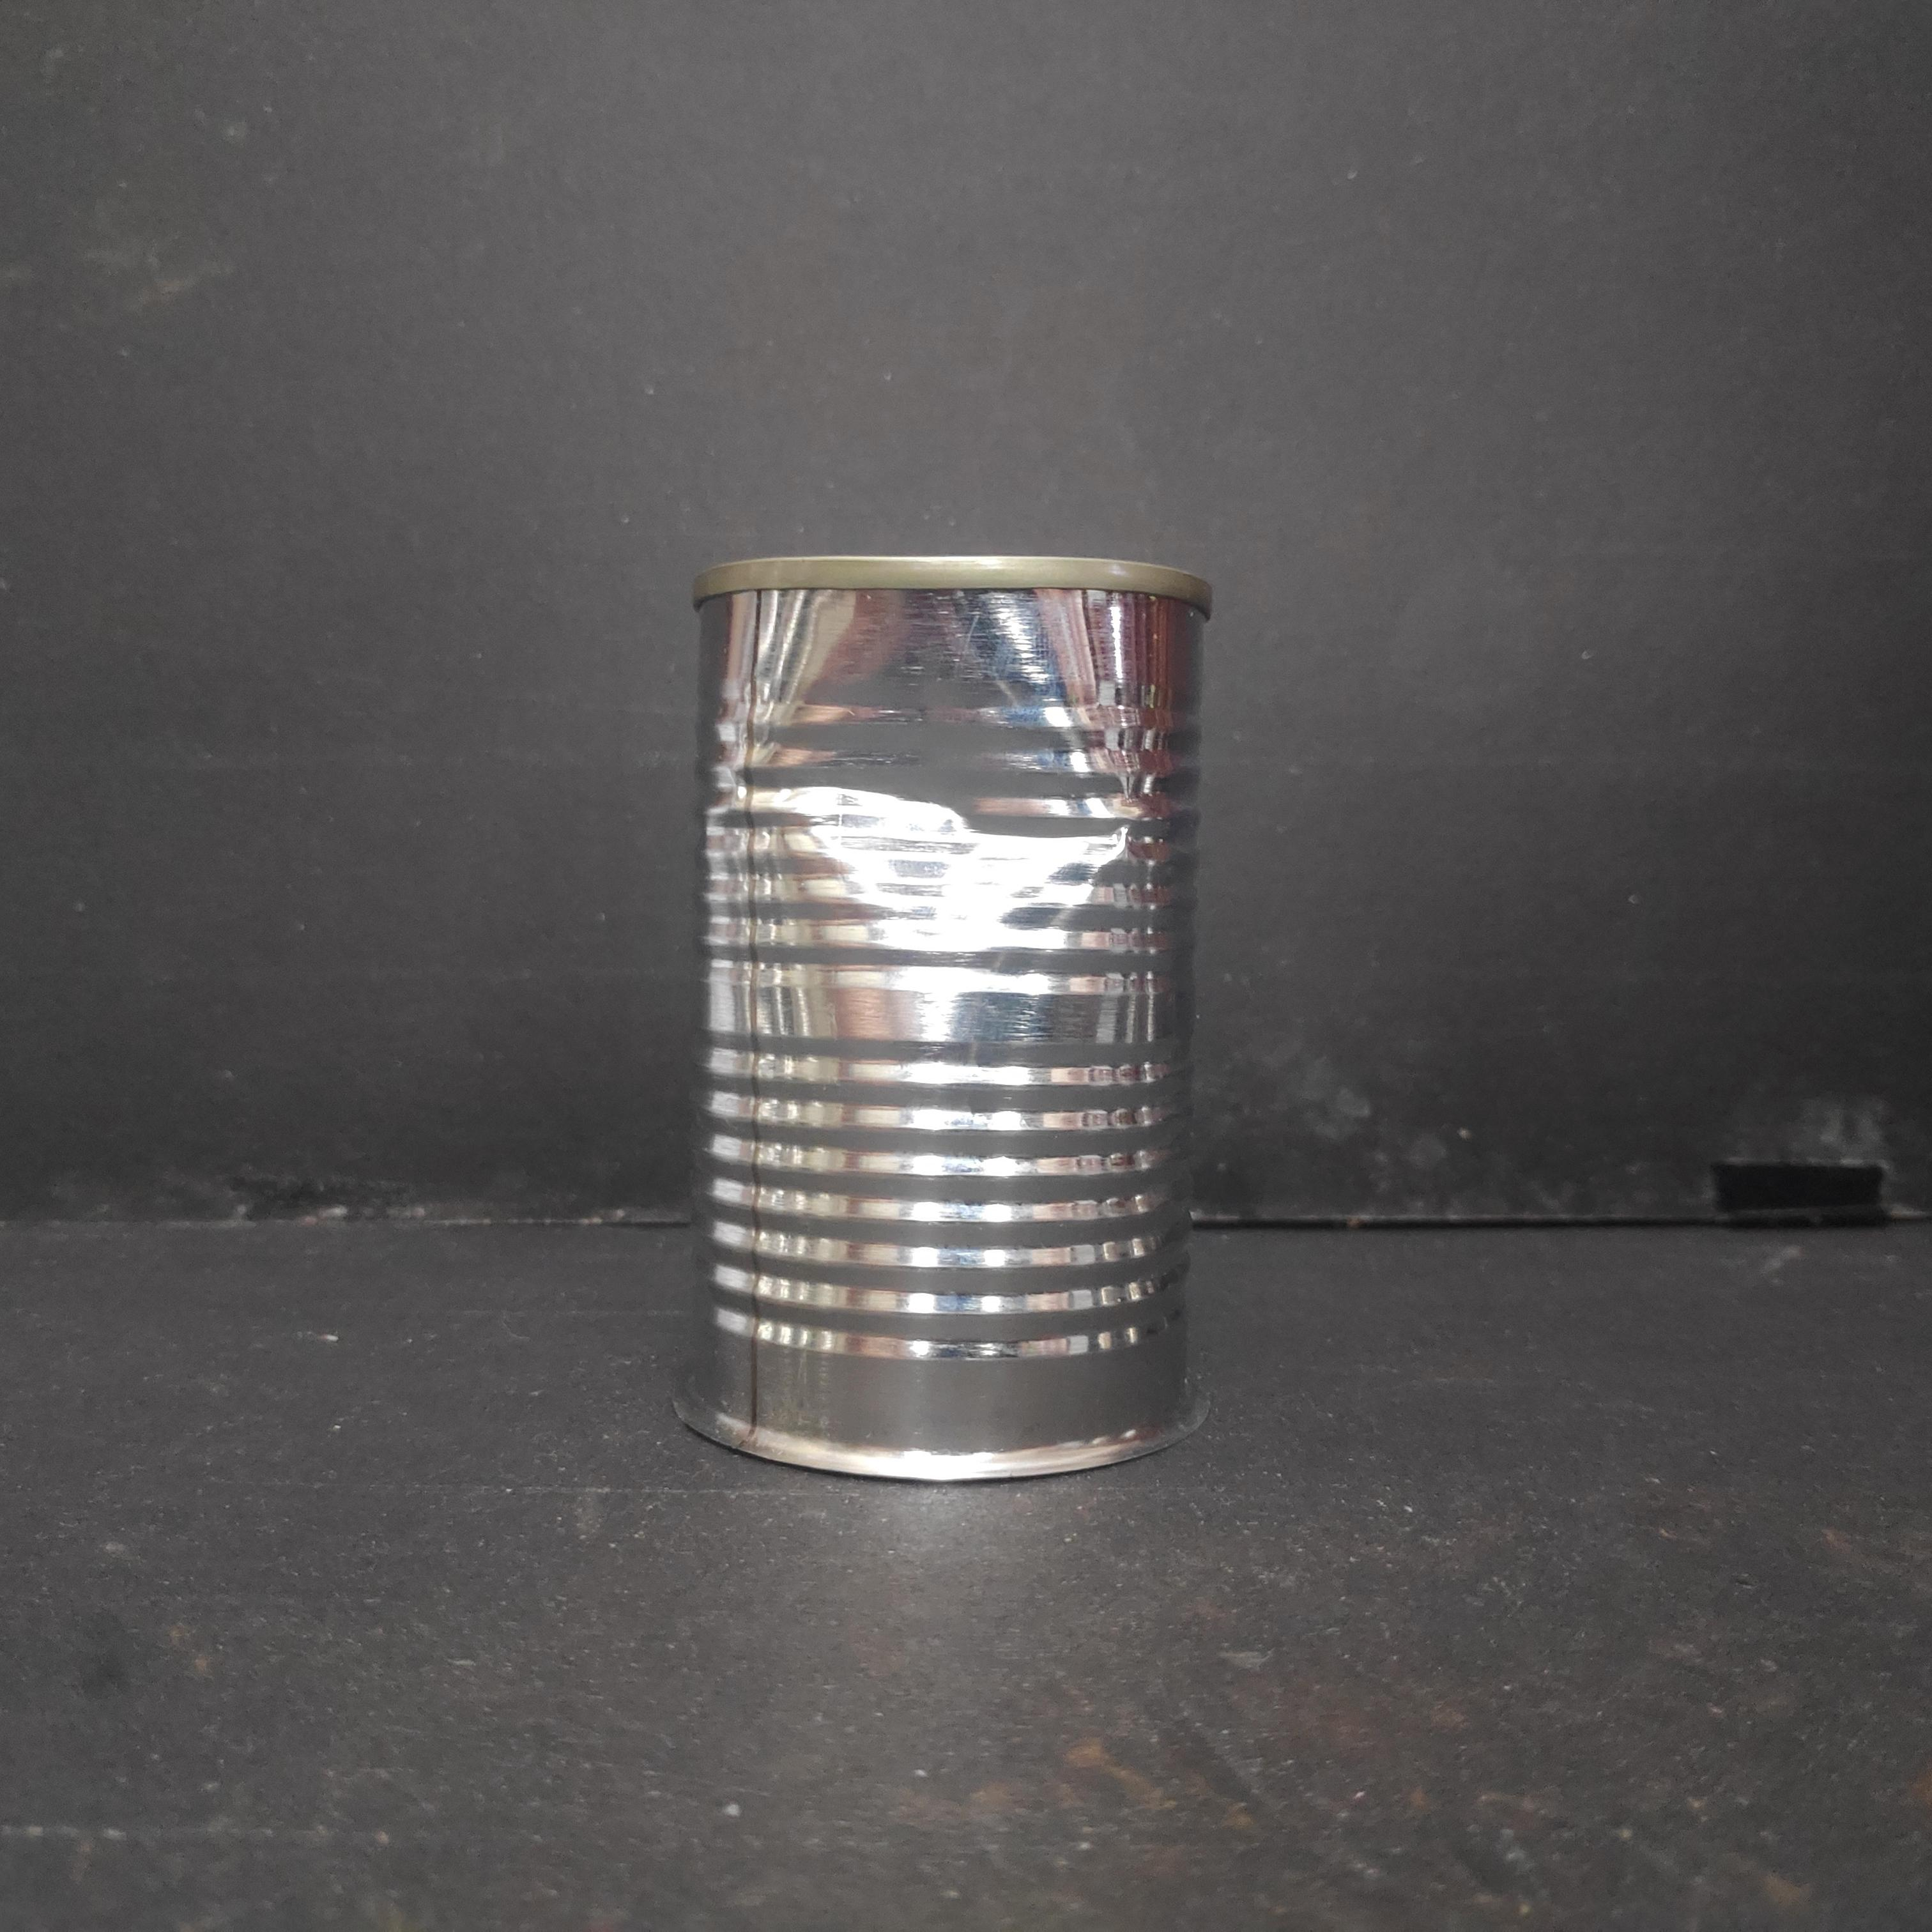Minor Defect: (676, 541, 1214, 1507)
